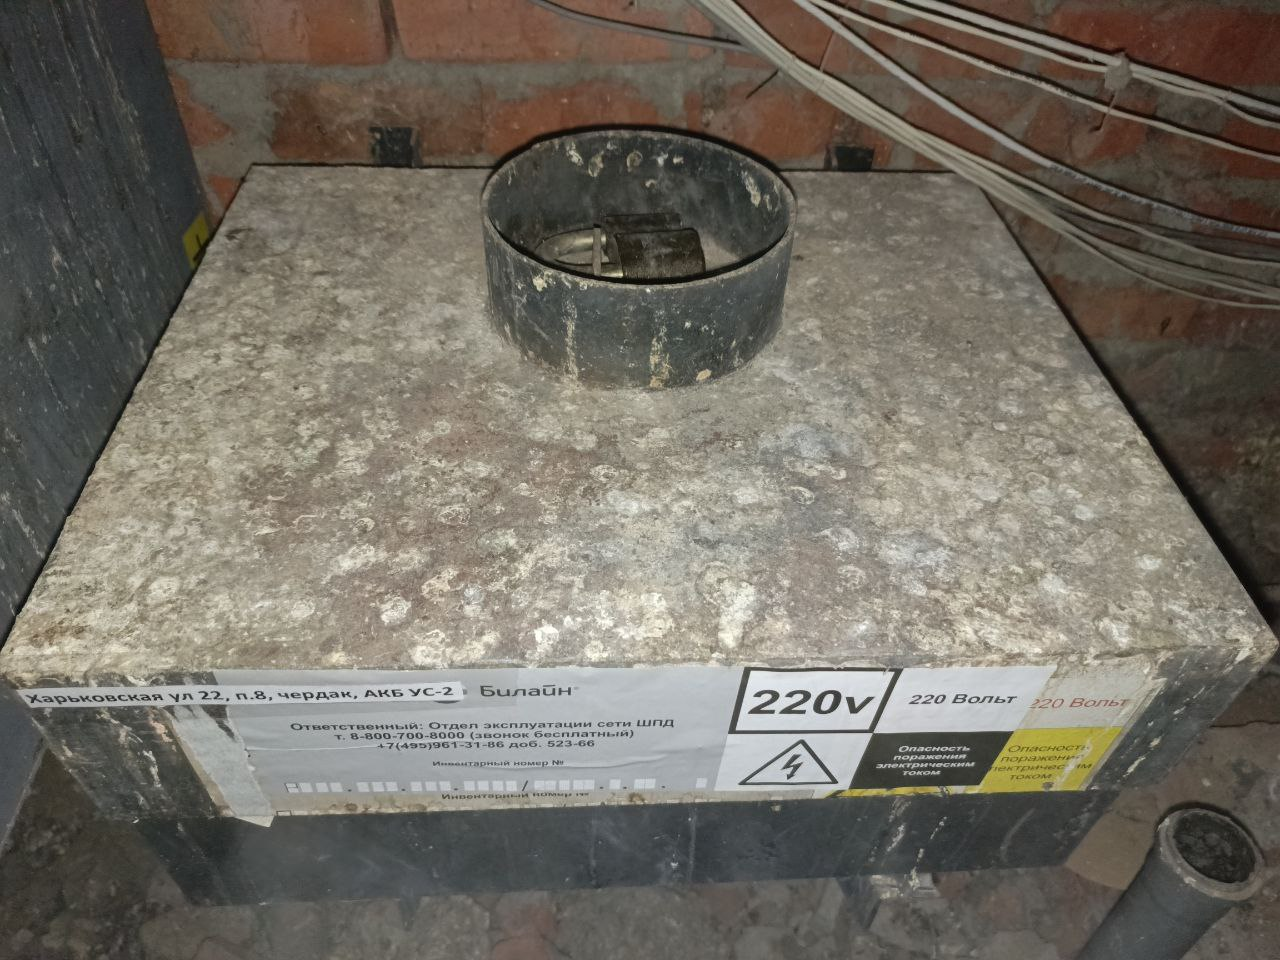shta-ps: (3, 120, 1278, 916)
